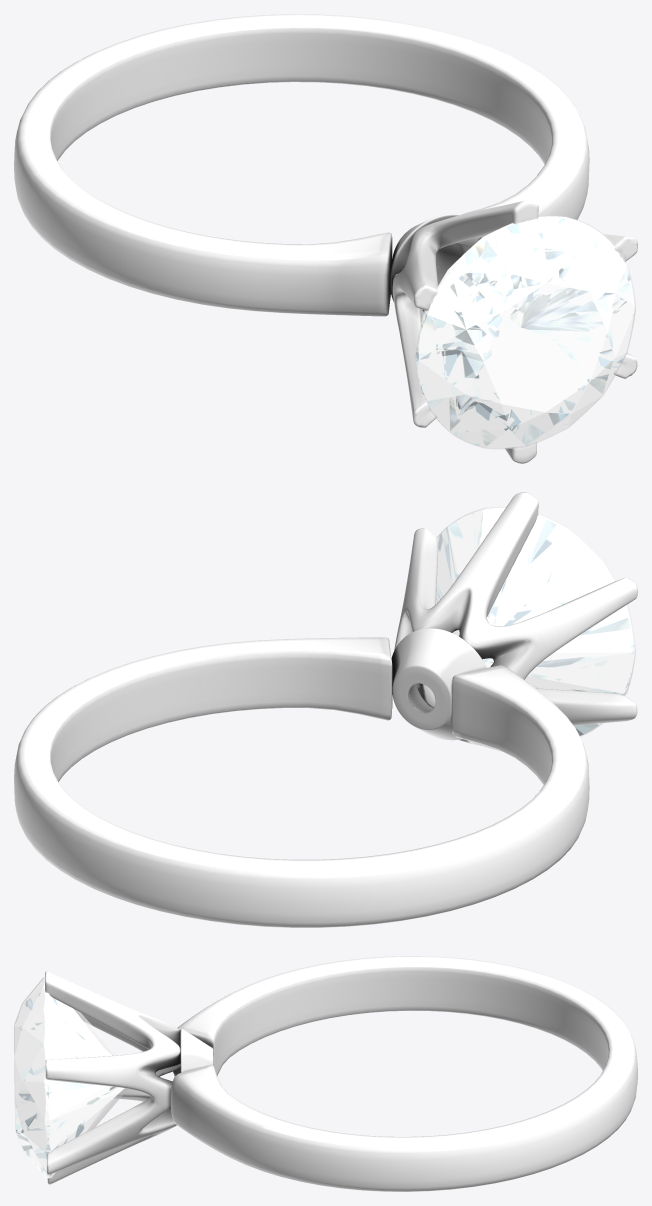
Rendered from RingTransformed.glb.
3 renders of one model, top to bottom at view 1: azimuth 30°, elevation 25°; view 2: azimuth 150°, elevation 25°; view 3: azimuth 270°, elevation 25°, orthographic. The views are drawn at different scales.
Parts seen in each view (by area): view 1: Ring, Diamond, DiamondColor; view 2: Ring, Diamond, DiamondColor; view 3: Ring, Diamond, DiamondColor.
Boxes of the visible parts, left/top/right/bottom form: Ring: left=14, top=14, right=637, bottom=463; Diamond: left=415, top=215, right=636, bottom=449; DiamondColor: left=415, top=216, right=634, bottom=447; Ring: left=14, top=492, right=637, bottom=927; Diamond: left=436, top=506, right=636, bottom=736; DiamondColor: left=436, top=508, right=634, bottom=735; Ring: left=45, top=956, right=637, bottom=1191; Diamond: left=14, top=977, right=127, bottom=1178; DiamondColor: left=15, top=978, right=124, bottom=1177.
Size of the model in its own units: 0.1166 by 0.0588 by 0.1574.
Materials: 3 (1 with a texture image).
